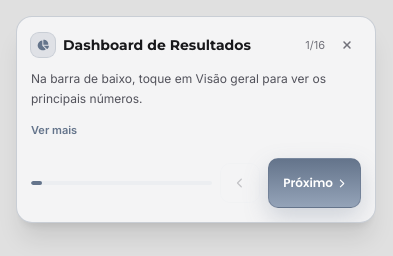
Scenario: [Unidade] Componentes e Contexto de Onboarding › no celular, o balão compacto fica preso embaixo da tela, com texto curto e os botões à vista
Check: the text "Próximo" is shown, box [283,175,333,191]
Check: the text "Na barra de baixo, toque em Visão geral para ver os principais números." is shown, box [31,69,357,108]
"Ver mais" mostra o texto completo do passo.
Click the button "Ver mais" at (54, 130), box [31,112,77,148]
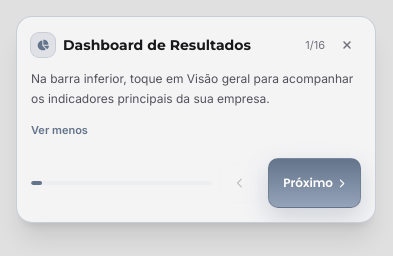
Check: the text "acompanhar os indicadores principais da sua empresa" is shown, box [31,71,353,106]
Click the button "Ver menos" at (59, 130), box [31,112,88,148]
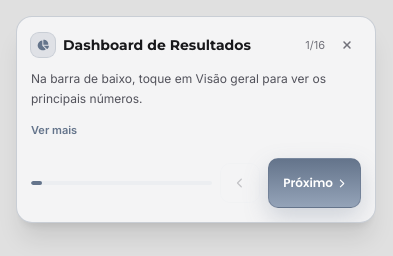
Check: the text "Na barra de baixo, toque em Visão geral para ver os principais números." is shown, box [31,69,357,108]
